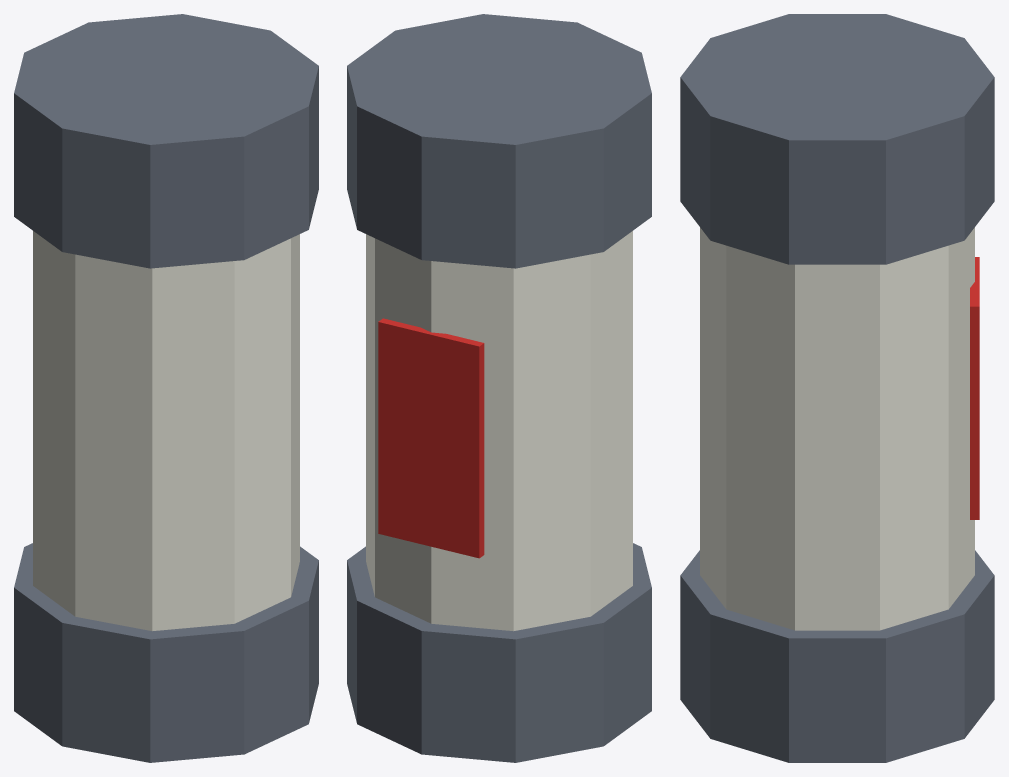
File: prop_lift_fuse.glb
3 views of the same model, side by side, from view 1: azimuth 30°, elevation 25°; view 2: azimuth 150°, elevation 25°; view 3: azimuth 270°, elevation 25° (orthographic).
Parts seen in each view (by area): view 1: prop_lift_fuse; view 2: prop_lift_fuse; view 3: prop_lift_fuse.
Boxes of the visible parts, left/top/right/bottom form: prop_lift_fuse: left=14, top=14, right=318, bottom=762; prop_lift_fuse: left=347, top=14, right=651, bottom=762; prop_lift_fuse: left=680, top=14, right=994, bottom=762.
Bounding box in the file's own units: 0.1522 × 0.35 × 0.16.
Materials: 1 (1 with a texture image).
